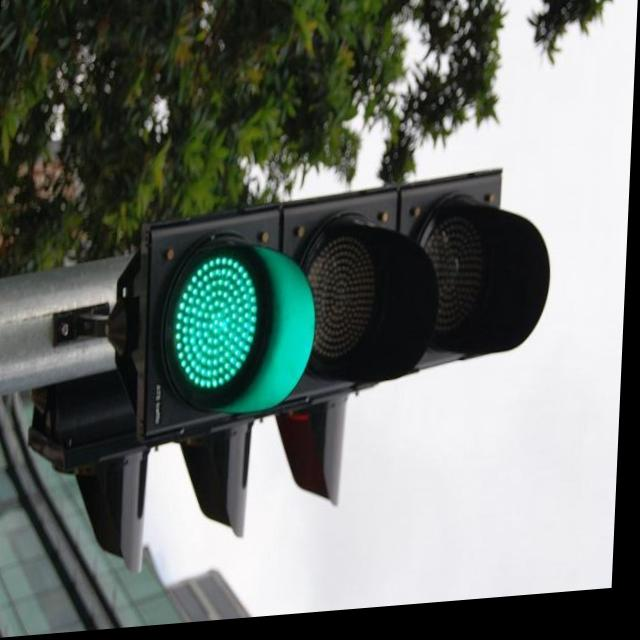green light: (148, 170, 557, 452)
